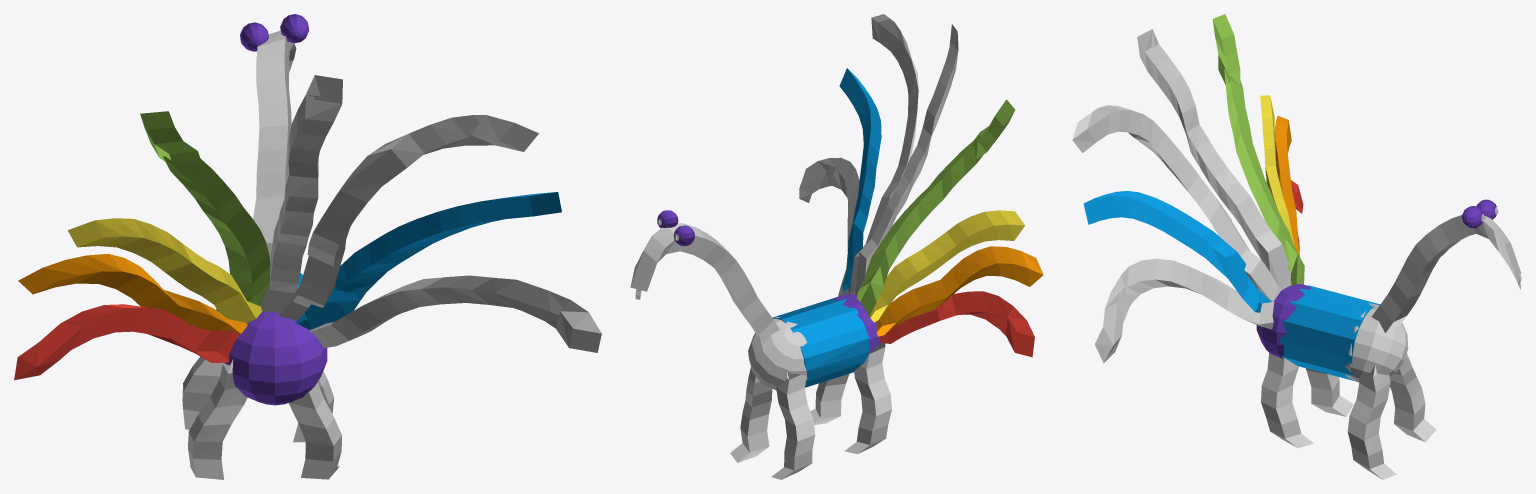
Rendered from antlick.obj.
The picture shows the model from 3 angles, left to right: view 1: azimuth 30°, elevation 25°; view 2: azimuth 150°, elevation 25°; view 3: azimuth 270°, elevation 25°; orthographic projection. The views are drawn at different scales.
Size of the model in its own units: 0.899 by 0.9626 by 1.
